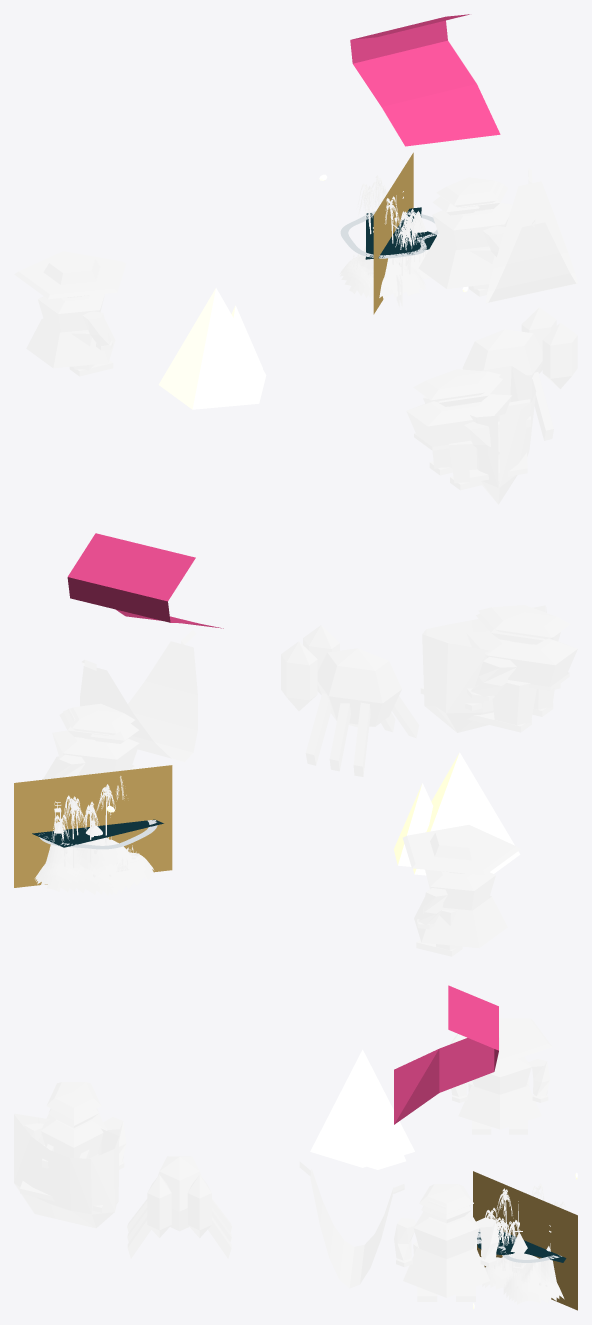
Rendered from ile-moussaillons-v5-leger.glb.
3 views of the same model, one above another, from view 1: azimuth 30°, elevation 25°; view 2: azimuth 150°, elevation 25°; view 3: azimuth 270°, elevation 25° (orthographic). The views are drawn at different scales.
Visible parts, largest first — view 1: ile_banniere0.003, ile_anime4.003, ile_libre0.001, ile_anime2.003, ile_anime3.003, ile_anime1.003, ile_anime5.003, ile_anime0.003, ile_corps.003, ile_vitres.003, ile_libre1; view 2: ile_vitres.003, ile_anime5.003, ile_anime4.003, ile_anime2.003, ile_anime1.003, ile_banniere0.003, ile_corps.003, ile_anime0.003, ile_anime3.003, ile_libre0.001, ile_libre1; view 3: ile_anime3.003, ile_anime0.003, ile_anime4.003, ile_banniere0.003, ile_libre0.001, ile_vitres.003, ile_anime5.003, ile_anime2.003, ile_corps.003, ile_anime1.003, ile_libre1.
Part boxes in pixels (x1,y1,x2,y2): ile_banniere0.003: (350,14,500,146); ile_anime4.003: (14,251,126,376); ile_libre0.001: (158,288,266,409); ile_anime2.003: (406,369,511,490); ile_anime3.003: (418,177,512,296); ile_anime1.003: (485,168,577,303); ile_anime5.003: (462,307,577,440); ile_anime0.003: (469,366,536,504); ile_corps.003: (339,175,430,306); ile_vitres.003: (373,152,413,314); ile_libre1: (340,207,438,259); ile_vitres.003: (14,765,172,887); ile_anime5.003: (281,625,419,776); ile_anime4.003: (403,825,520,956); ile_anime2.003: (466,605,577,732); ile_anime1.003: (80,630,197,762); ile_banniere0.003: (67,533,223,628); ile_corps.003: (34,771,154,895); ile_anime0.003: (420,605,560,732); ile_anime3.003: (43,703,139,779); ile_libre0.001: (393,752,520,875); ile_libre1: (32,819,163,849); ile_anime3.003: (394,1184,498,1301); ile_anime0.003: (14,1113,118,1228); ile_anime4.003: (449,1018,552,1134); ile_banniere0.003: (394,985,498,1124); ile_libre0.001: (310,1049,414,1169); ile_vitres.003: (473,1171,577,1310); ile_anime5.003: (127,1156,231,1258); ile_anime2.003: (24,1082,126,1169); ile_corps.003: (480,1183,565,1304); ile_anime1.003: (299,1161,404,1288); ile_libre1: (476,1228,566,1262).
Size of the model in its own units: 9.88 by 5.8 by 10.73.
